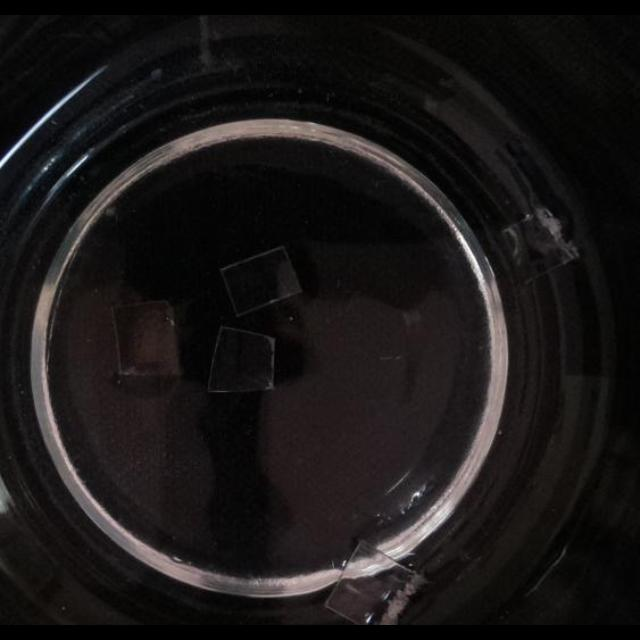Film: (324, 536, 426, 626), (496, 206, 580, 286), (106, 298, 180, 382), (218, 245, 304, 317), (206, 325, 278, 395)
